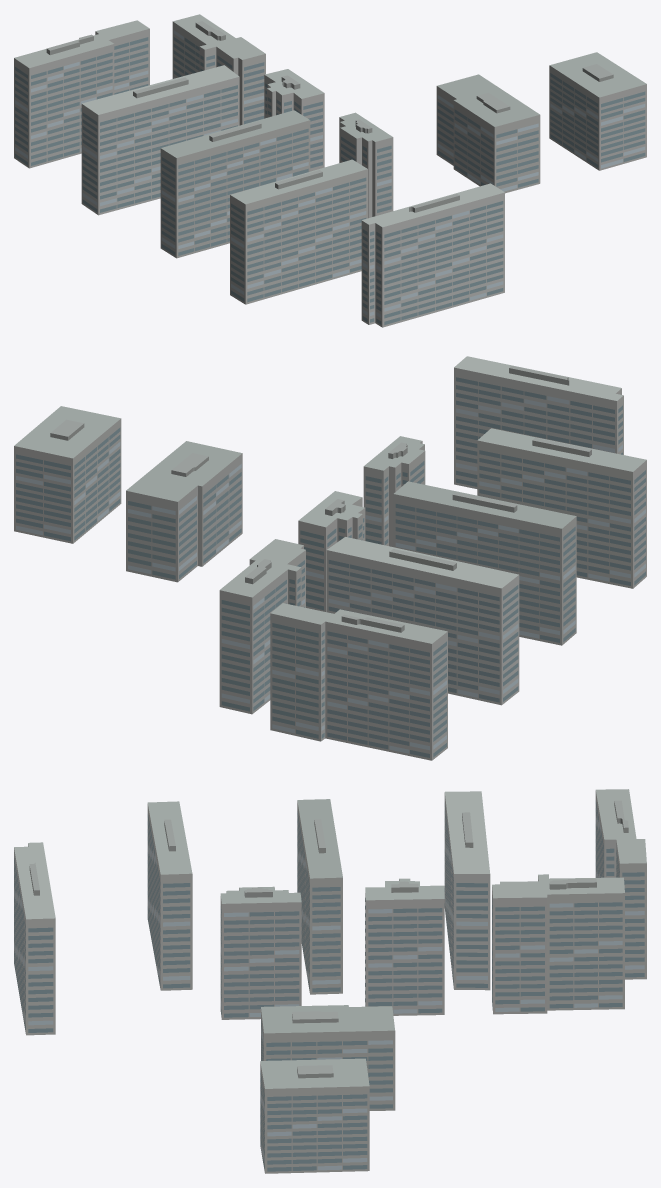
The model's file is apt-a13203408.glb.
The picture shows the model from 3 angles, top to bottom: view 1: azimuth 30°, elevation 25°; view 2: azimuth 150°, elevation 25°; view 3: azimuth 270°, elevation 25°; orthographic projection. The views are drawn at different scales.
Parts seen in each view (by area): view 1: apt-a13203408; view 2: apt-a13203408; view 3: apt-a13203408.
Boxes of the visible parts, <box> form: apt-a13203408: <box>14,14,646,327</box>; apt-a13203408: <box>14,356,646,760</box>; apt-a13203408: <box>14,789,646,1173</box>.
Size of the model in its own units: 227 by 47.81 by 226.
